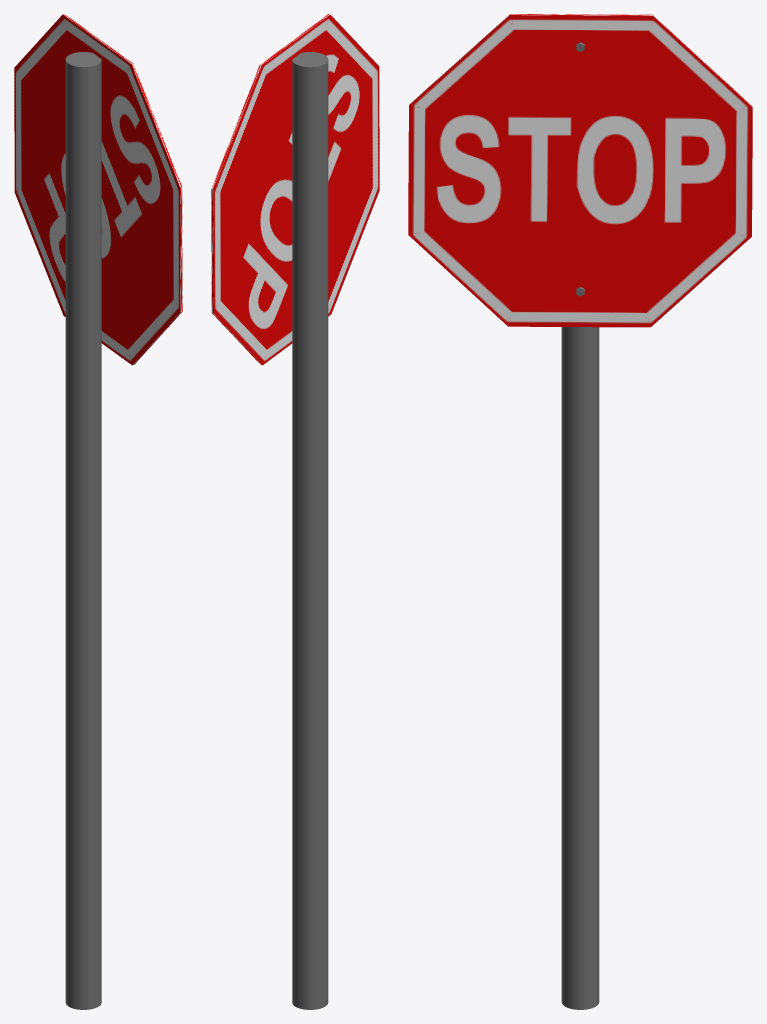
File: stopsign.obj
3 renders of one model, left to right at view 1: azimuth 30°, elevation 25°; view 2: azimuth 150°, elevation 25°; view 3: azimuth 270°, elevation 25°, orthographic. The views are drawn at different scales.
Parts seen in each view (by area): view 1: Cylinder, Cylinder.001; view 2: Cylinder, Cylinder.001; view 3: Cylinder.001, Cylinder.
Part boxes in pixels (x1=…): Cylinder: x1=65, y1=52, x2=101, y2=1009; Cylinder.001: x1=14, y1=14, x2=182, y2=365; Cylinder: x1=292, y1=52, x2=328, y2=1009; Cylinder.001: x1=211, y1=14, x2=379, y2=365; Cylinder.001: x1=408, y1=14, x2=752, y2=327; Cylinder: x1=561, y1=327, x2=599, y2=1009.
Size of the model in its own units: 0.2202 by 5.9 by 1.85.
Materials: 3 (2 with a texture image).
